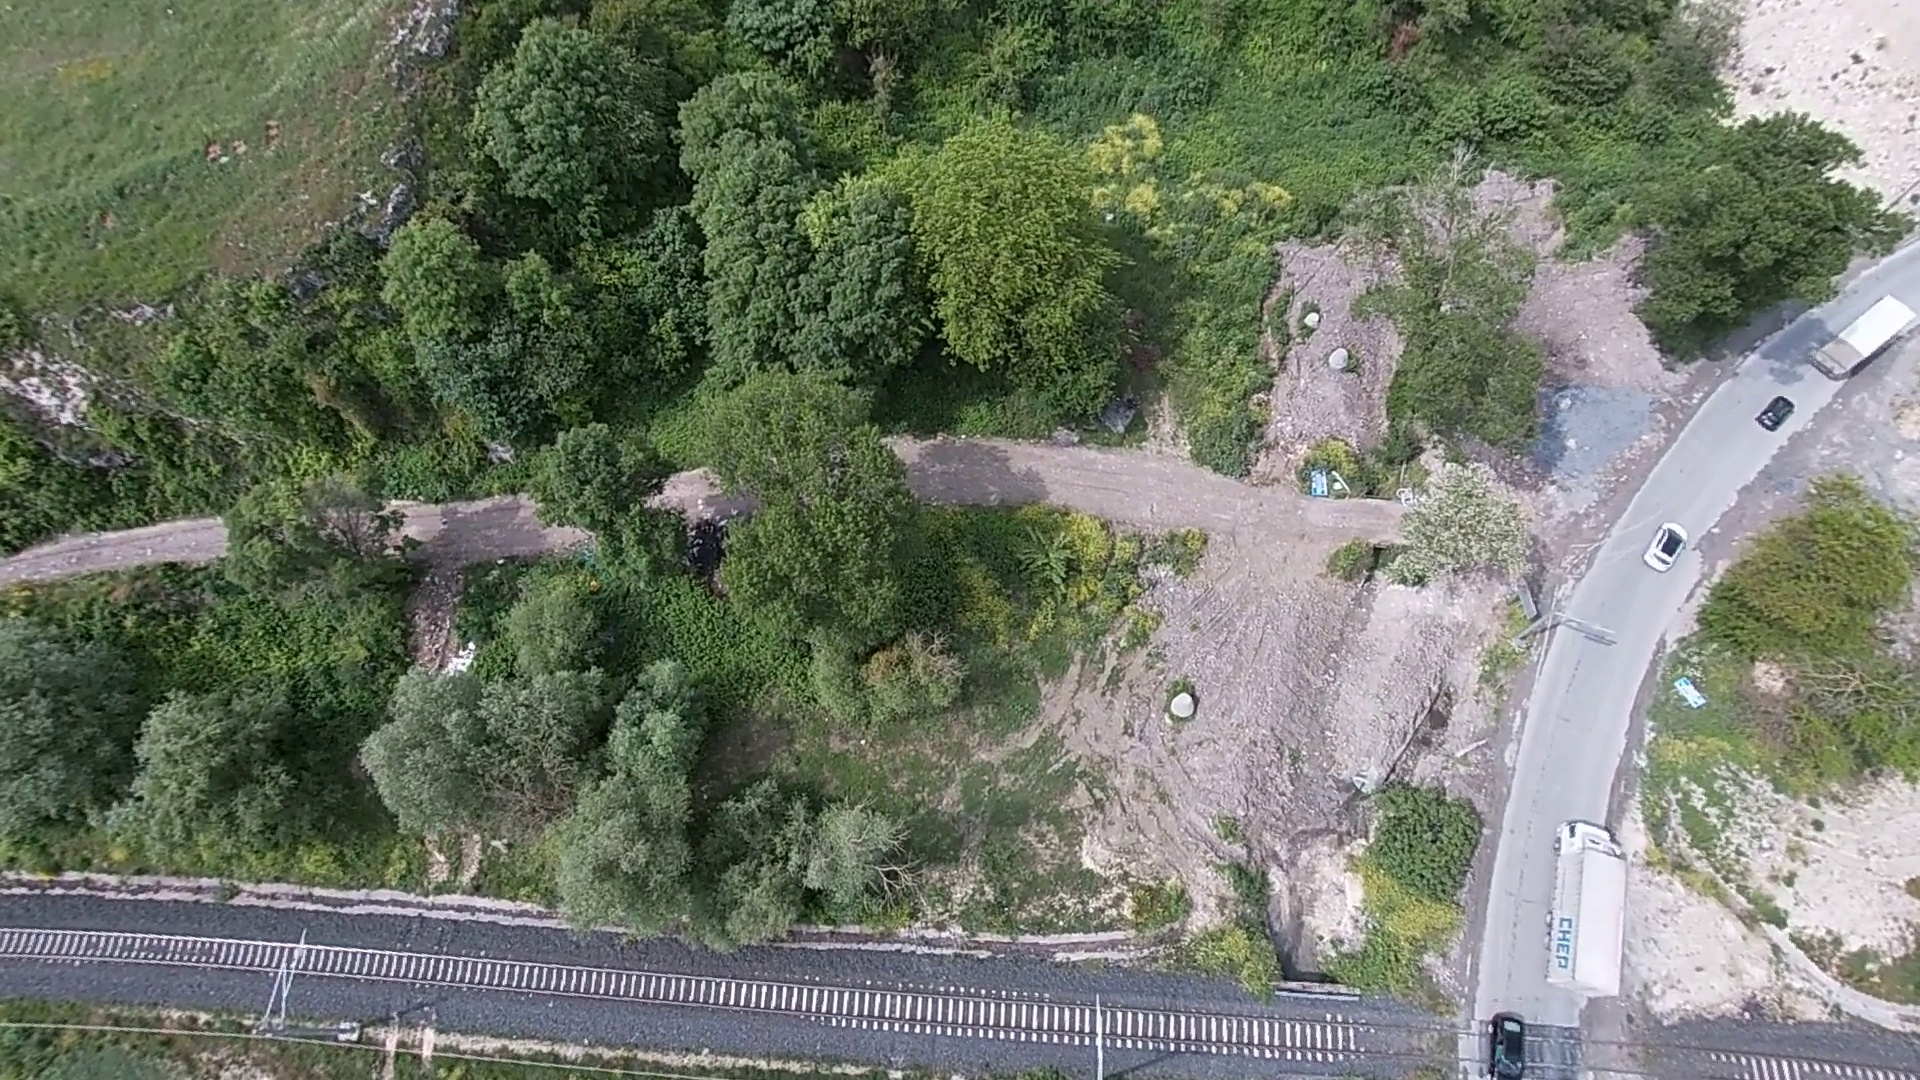arac: (1545, 811, 1627, 1004), (1807, 289, 1920, 380), (1491, 1005, 1534, 1080), (1644, 524, 1695, 571), (1753, 398, 1797, 431)
